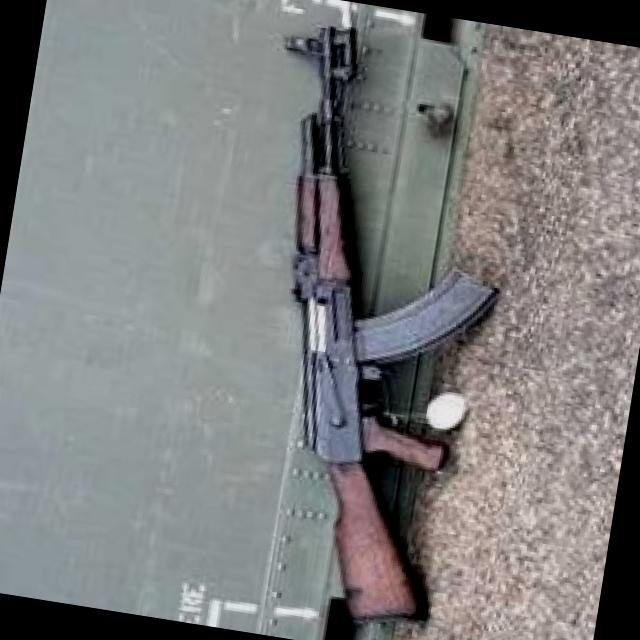long weapon: (199, 34, 584, 639)
